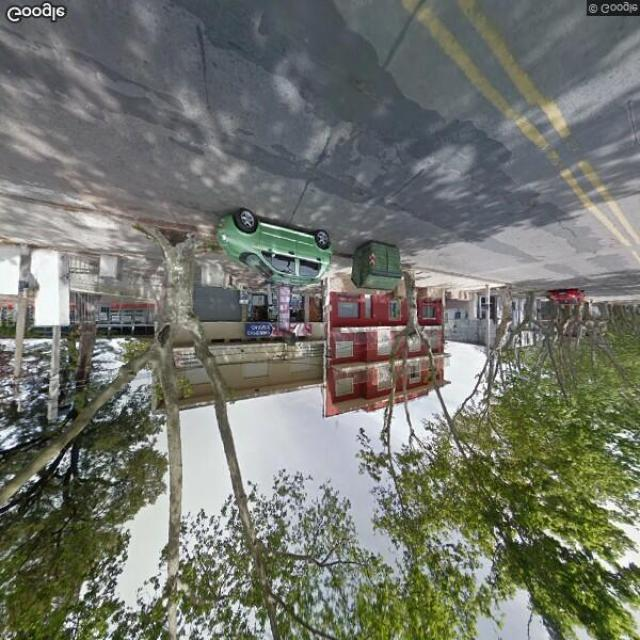garbage container: (348, 234, 409, 298)
